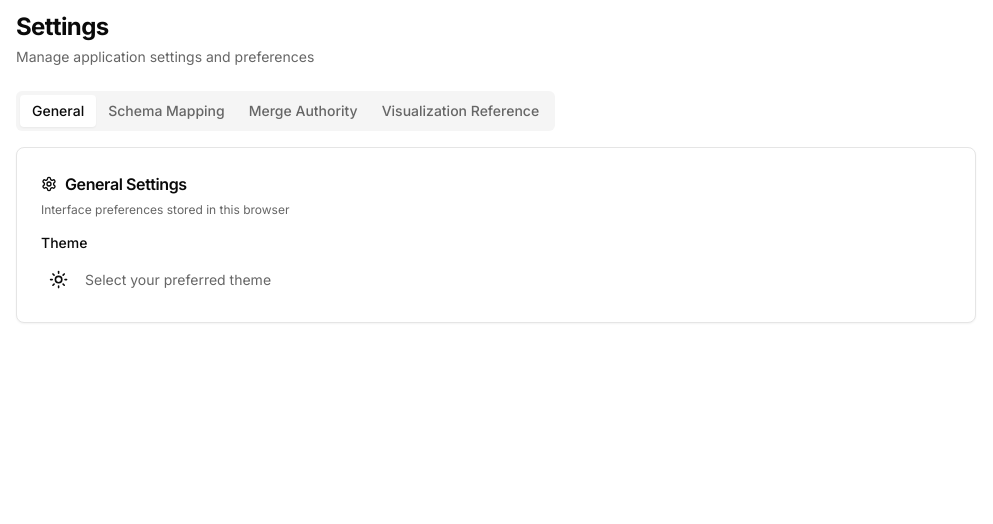
Test case: Settings page (gc#5) › renders the magnitude size key the maps use, circles at the markers' true radius
The image size is (993, 524).
Click the tab "Visualization Reference" at (460,111), box x1=370 y1=95 x2=551 y2=127
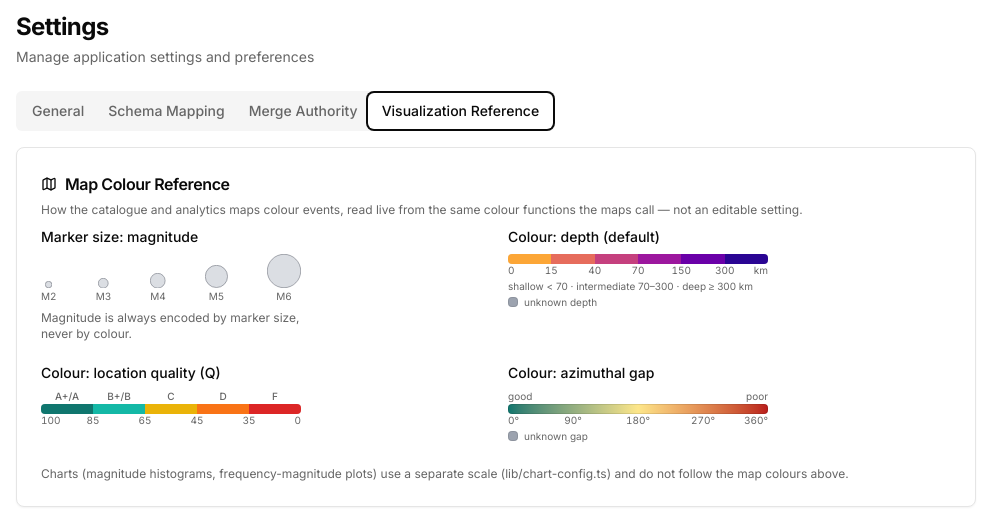
Check: the text "M2" is shown, box x1=41 y1=290 x2=56 y2=302
Check: the text "M3" is shown, box x1=96 y1=290 x2=111 y2=302
Check: the text "M4" is shown, box x1=150 y1=290 x2=166 y2=302
